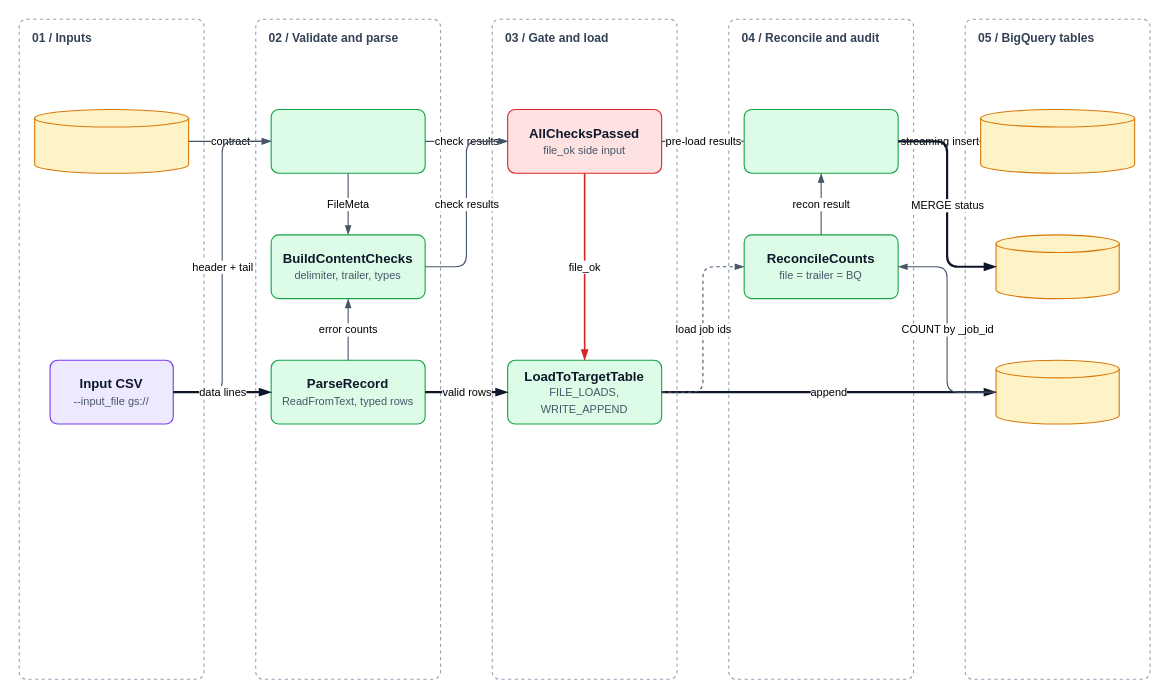
Image size: 1169x699. Some labels were removed from this diagram. The shapes that lost their labels are listed below. From the top down, each one's centre as x and y in pixels, then its label:
At (111,140): "contracts/*.yaml columns, delimiter".
At (347,140): "ValidateFileStructure contract, name, header".
At (820,140): "Audit writers validation rows, MERGE".
At (1057,140): "validation_metadata 1 row per check".
At (1057,266): "job_metadata status, row counts".
At (1057,391): "raw.<entity> + _job_id lineage".
